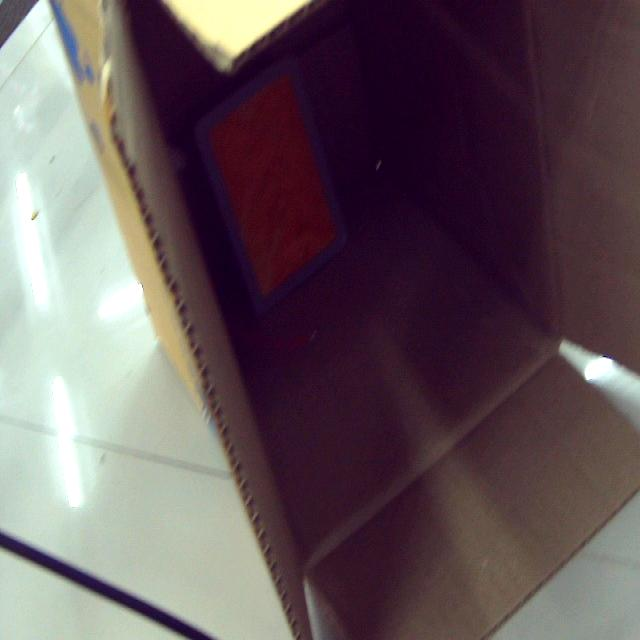block: (192, 60, 348, 312)
